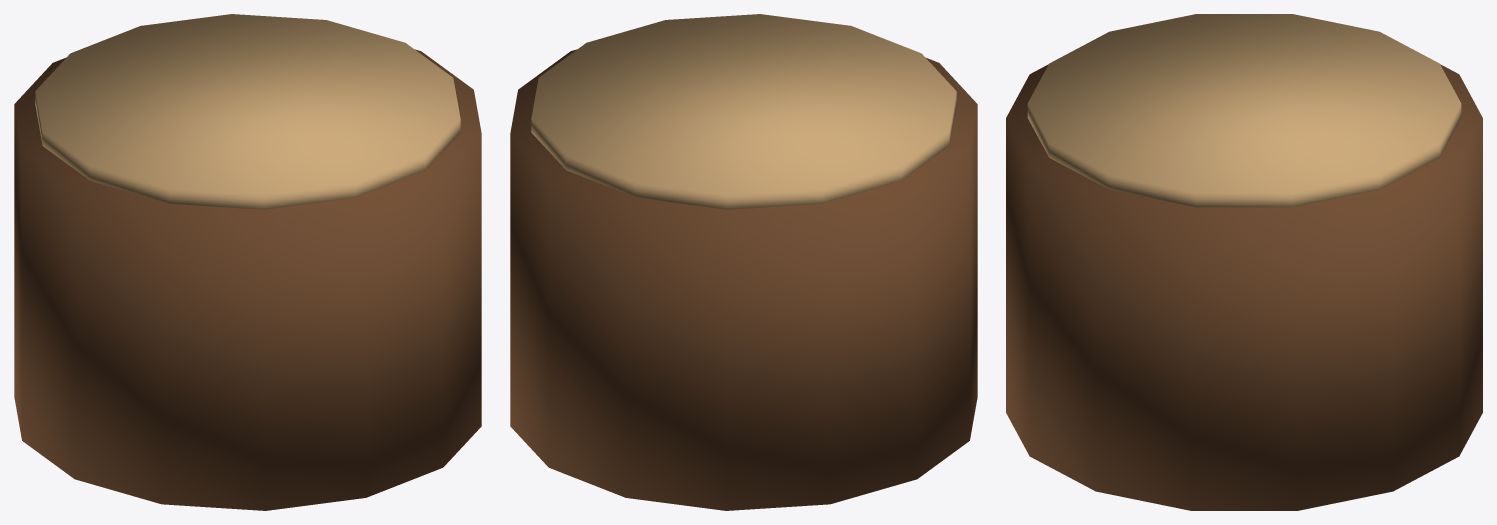
File: stump.glb
3 views of the same model, side by side, from view 1: azimuth 30°, elevation 25°; view 2: azimuth 150°, elevation 25°; view 3: azimuth 270°, elevation 25° (orthographic).
Visible parts, largest first — view 1: s.005, top.010; view 2: s.005, top.010; view 3: s.005, top.010.
Boxes of the visible parts, x1=… form: s.005: x1=14, y1=49, x2=481, y2=510; top.010: x1=35, y1=14, x2=460, y2=209; s.005: x1=510, y1=49, x2=977, y2=510; top.010: x1=531, y1=14, x2=956, y2=209; s.005: x1=1006, y1=64, x2=1482, y2=510; top.010: x1=1027, y1=14, x2=1461, y2=207.
Bounding box in the file's own units: 0.429 × 0.315 × 0.44.
